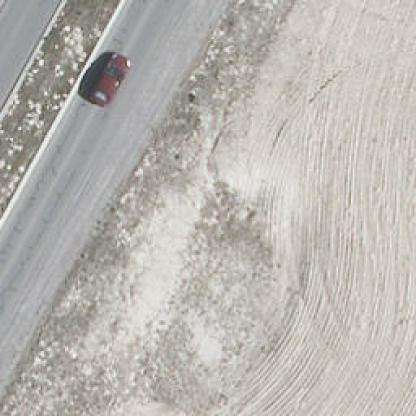car: (86, 52, 132, 107)
